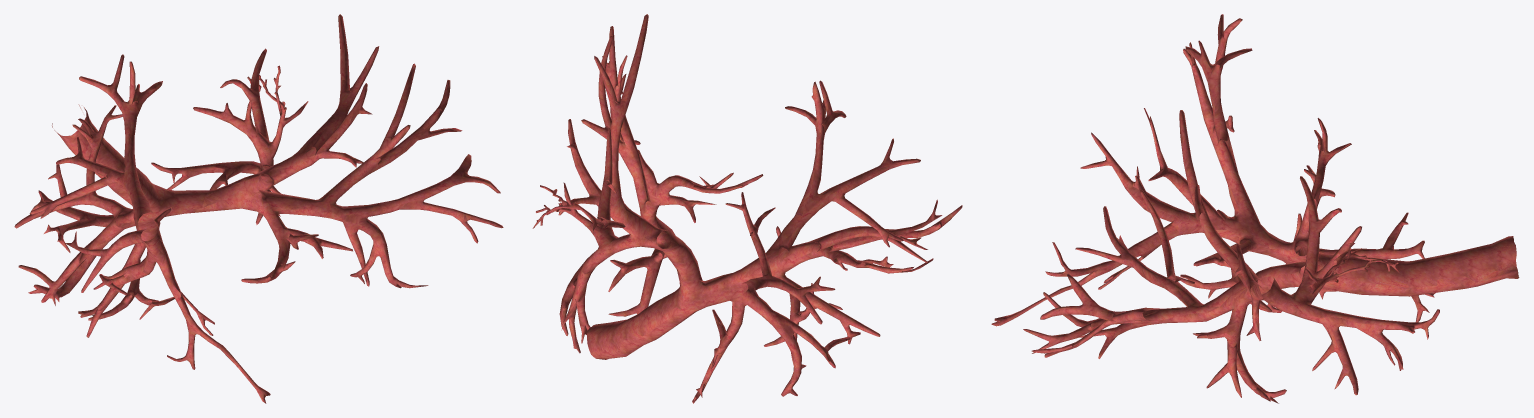
File: bronco_new_30_2.glb
3 renders of one model, left to right at view 1: azimuth 30°, elevation 25°; view 2: azimuth 150°, elevation 25°; view 3: azimuth 270°, elevation 25°, orthographic. The views are drawn at different scales.
Visible parts, largest first — view 1: bronchi002; view 2: bronchi002; view 3: bronchi002.
Part boxes in pixels (x1,y1,x2,y2): bronchi002: (14,14,503,403); bronchi002: (532,14,962,403); bronchi002: (991,14,1519,403).
Bounding box in the file's own units: 24.56 × 17.84 × 27.75.
Materials: 1 (1 with a texture image).
